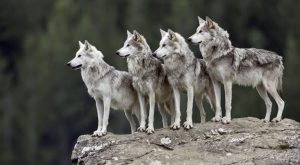Lobo: (194, 13, 285, 133), (61, 33, 126, 130), (155, 26, 198, 129), (122, 28, 162, 133)
